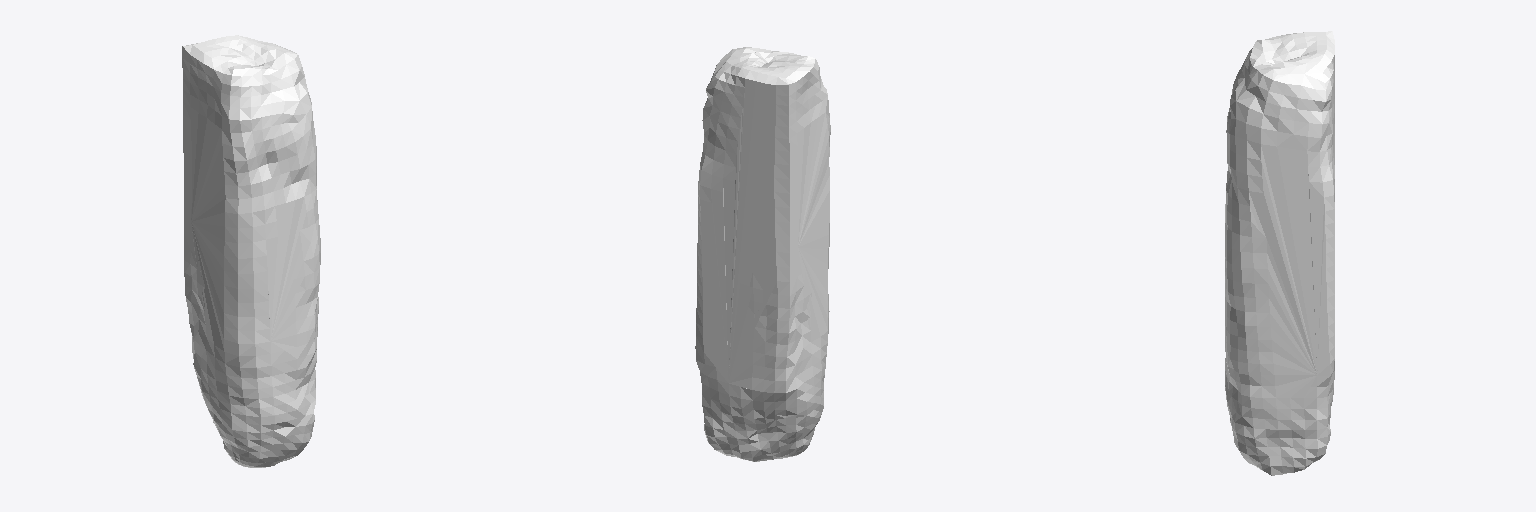
The model's file is Brick04.Obj.
The picture shows the model from 3 angles: view 1: azimuth 30°, elevation 25°; view 2: azimuth 150°, elevation 25°; view 3: azimuth 270°, elevation 25°; orthographic projection.
Visible parts, largest first — view 1: Volume7; view 2: Volume7; view 3: Volume7.
Part boxes in pixels (x1,y1,x2,y2): Volume7: (182, 35, 320, 467); Volume7: (695, 47, 830, 461); Volume7: (1225, 31, 1334, 475).
Size of the model in its own units: 55.3 by 227 by 55.34.